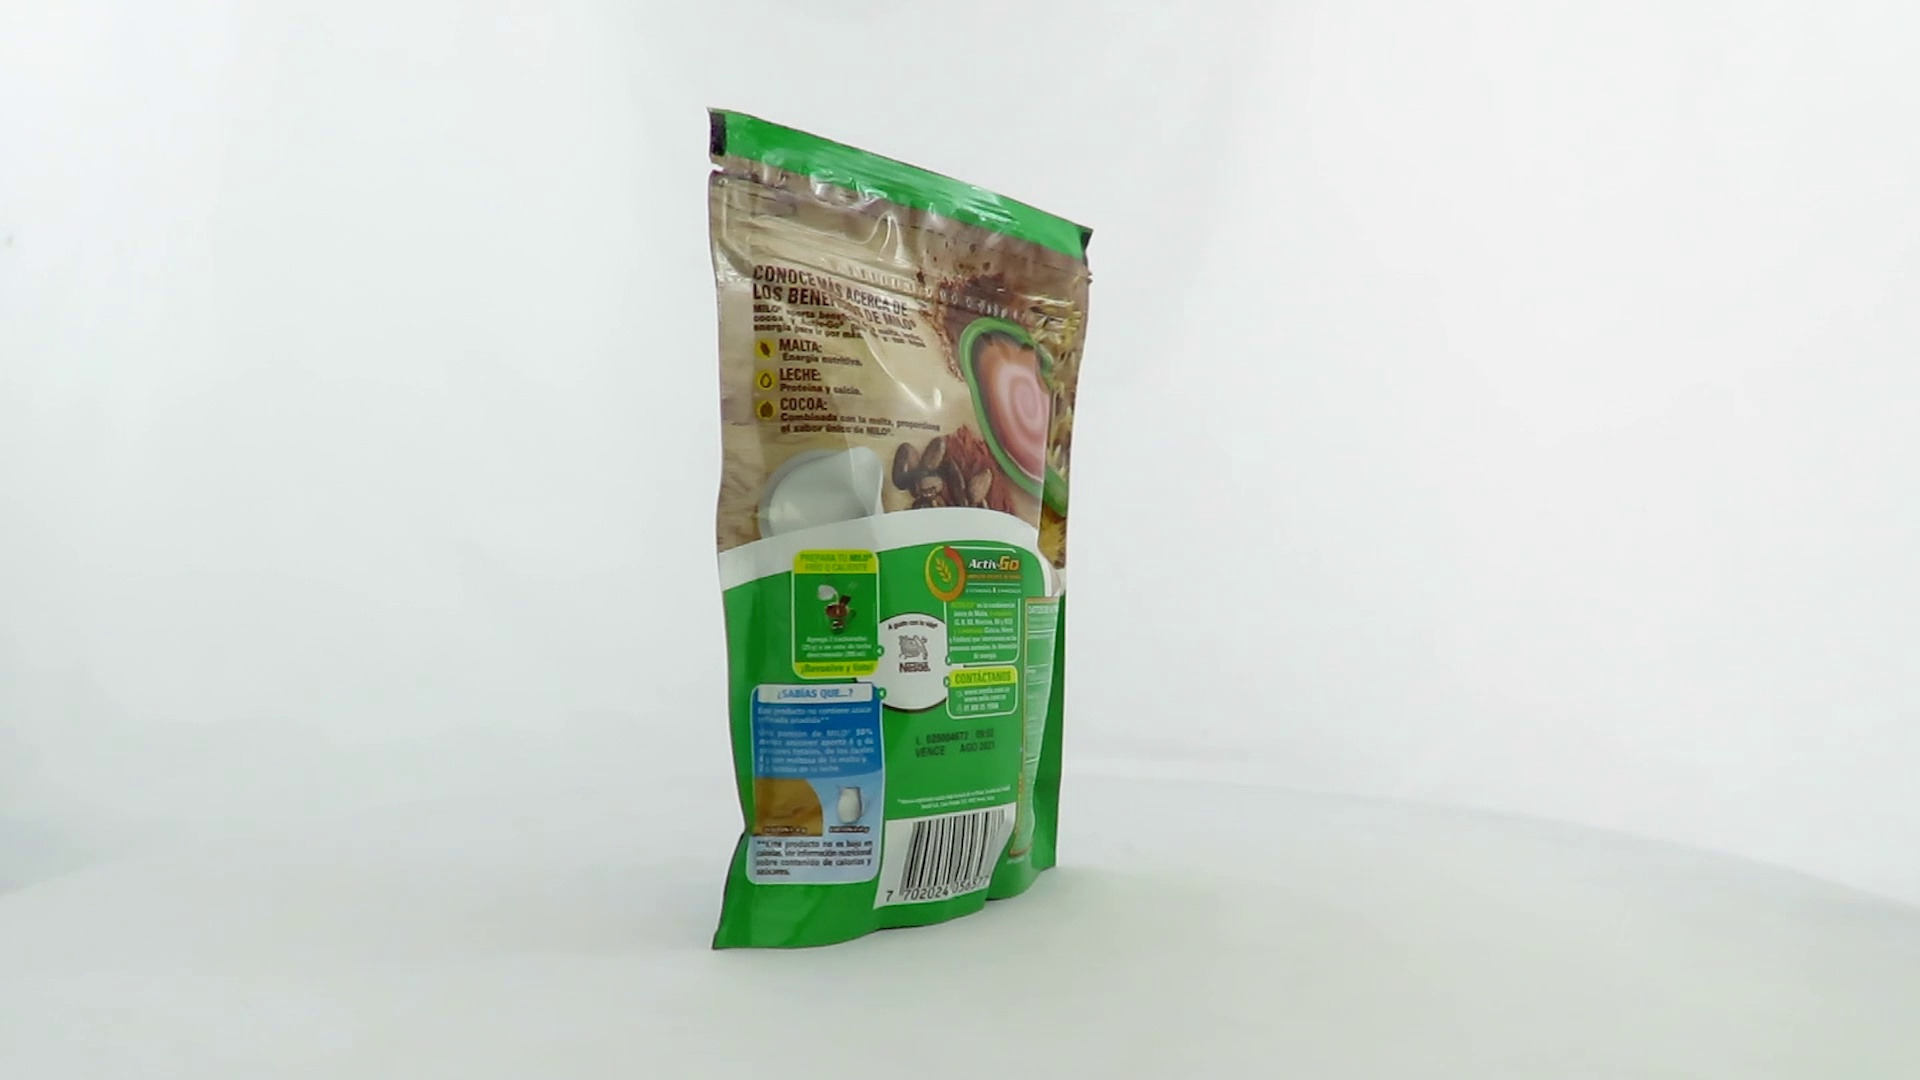COL0170205DYP20000: (702, 102, 1100, 956)
